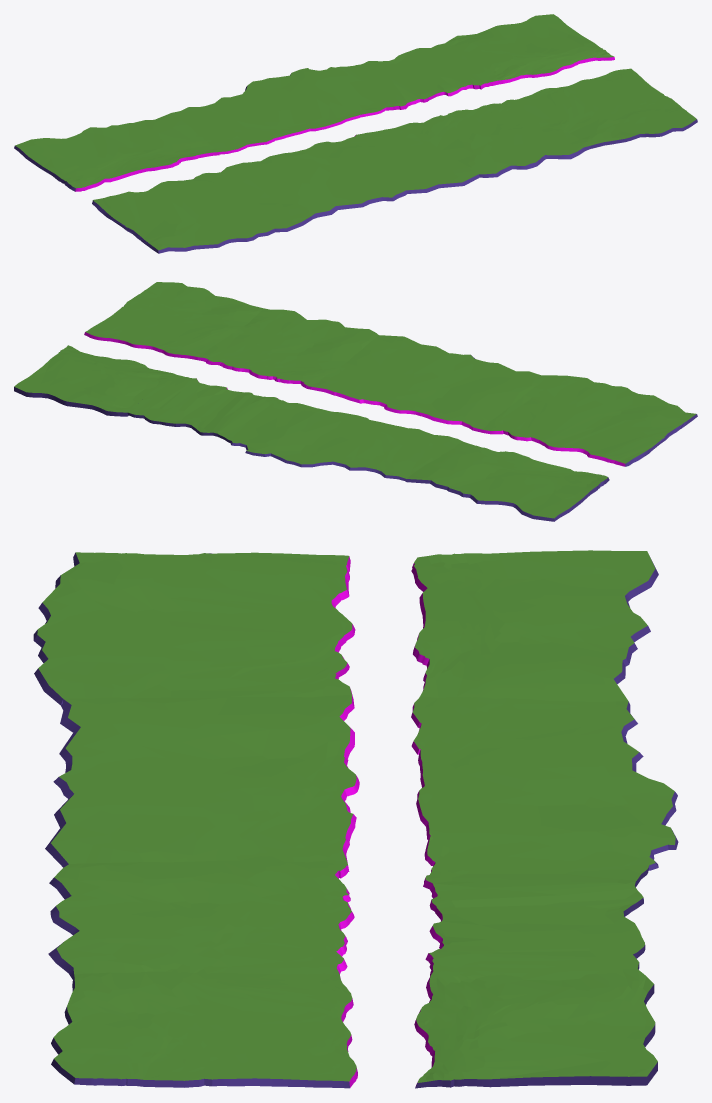
Rendered from grass_path_set_A_straight.fbx.
The picture shows the model from 3 angles, top to bottom: view 1: azimuth 30°, elevation 25°; view 2: azimuth 150°, elevation 25°; view 3: azimuth 270°, elevation 25°; orthographic projection. The views are drawn at different scales.
Visible parts, largest first — view 1: path_straight_grass_layer_C_L, path_straight_grass_layer_D_L, path_straight_grass_layer_C_R, path_straight_grass_layer_D_R, path_straight_grass_layer_B_L, path_straight_grass_layer_A_L, path_straight_grass_layer_A_R, path_straight_grass_layer_B_R; view 2: path_straight_grass_layer_C_L, path_straight_grass_layer_D_L, path_straight_grass_layer_C_R, path_straight_grass_layer_D_R, path_straight_grass_layer_B_L, path_straight_grass_layer_A_L, path_straight_grass_layer_A_R, path_straight_grass_layer_B_R; view 3: path_straight_grass_layer_C_L, path_straight_grass_layer_D_L, path_straight_grass_layer_C_R, path_straight_grass_layer_A_L, path_straight_grass_layer_B_L, path_straight_grass_layer_D_R, path_straight_grass_layer_A_R, path_straight_grass_layer_B_R.
Boxes of the visible parts, left/top/right/bottom form: path_straight_grass_layer_C_L: left=234, top=124, right=479, bottom=218; path_straight_grass_layer_D_L: left=92, top=165, right=312, bottom=253; path_straight_grass_layer_C_R: left=172, top=67, right=393, bottom=154; path_straight_grass_layer_D_R: left=14, top=113, right=219, bottom=191; path_straight_grass_layer_B_L: left=406, top=97, right=590, bottom=177; path_straight_grass_layer_A_L: left=524, top=68, right=697, bottom=148; path_straight_grass_layer_A_R: left=445, top=14, right=614, bottom=84; path_straight_grass_layer_B_R: left=336, top=43, right=498, bottom=109; path_straight_grass_layer_C_L: left=310, top=335, right=549, bottom=432; path_straight_grass_layer_D_L: left=482, top=375, right=697, bottom=466; path_straight_grass_layer_C_R: left=230, top=400, right=463, bottom=481; path_straight_grass_layer_D_R: left=405, top=442, right=609, bottom=521; path_straight_grass_layer_B_L: left=197, top=308, right=378, bottom=389; path_straight_grass_layer_A_L: left=84, top=282, right=263, bottom=360; path_straight_grass_layer_A_R: left=14, top=345, right=176, bottom=416; path_straight_grass_layer_B_R: left=127, top=375, right=282, bottom=442; path_straight_grass_layer_C_L: left=45, top=694, right=359, bottom=867; path_straight_grass_layer_D_L: left=33, top=552, right=355, bottom=705; path_straight_grass_layer_C_R: left=411, top=696, right=678, bottom=870; path_straight_grass_layer_A_L: left=51, top=971, right=357, bottom=1088; path_straight_grass_layer_B_L: left=48, top=860, right=354, bottom=979; path_straight_grass_layer_D_R: left=411, top=550, right=658, bottom=701; path_straight_grass_layer_A_R: left=414, top=969, right=657, bottom=1088; path_straight_grass_layer_B_R: left=423, top=865, right=648, bottom=976.
Size of the model in its own units: 10473 by 96.92 by 5366.
